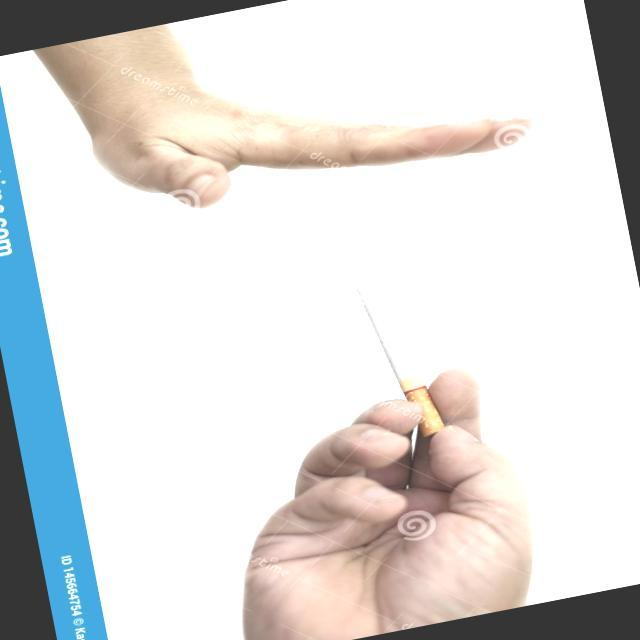cigarette: (341, 252, 447, 445)
